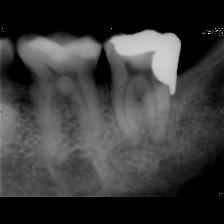apical_lesion: (104, 30, 185, 172)
